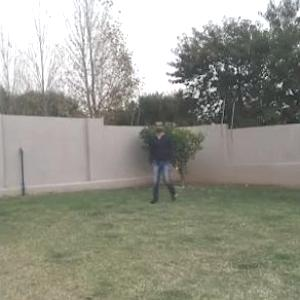follow: (150, 116, 173, 208)
